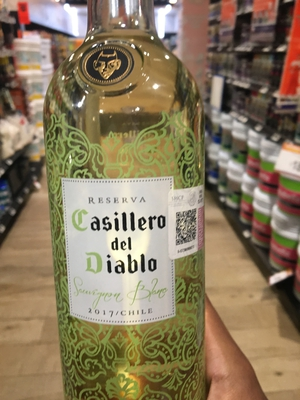casillero del diablo sauvignon blanc: (39, 16, 221, 400)
